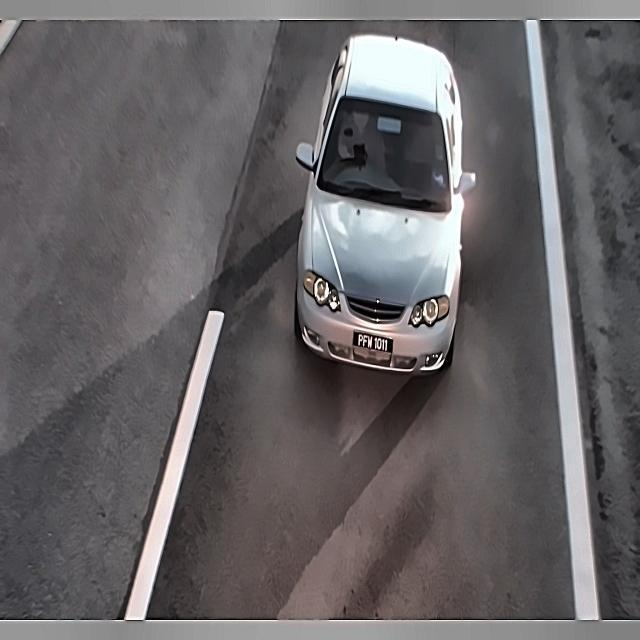car: (346, 321, 402, 359)
